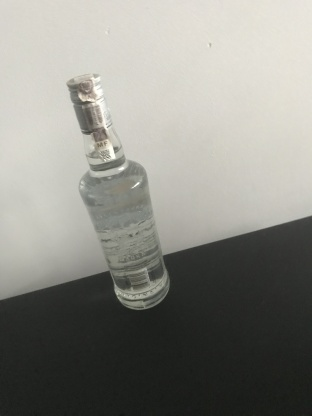nakretka: (65, 70, 113, 136)
